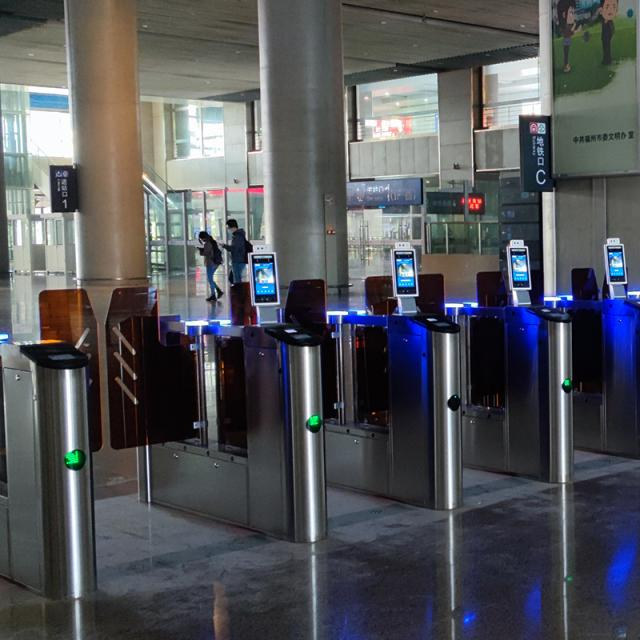torniquete: (0, 342, 96, 598), (244, 324, 328, 542), (389, 315, 462, 509), (504, 305, 574, 482)
